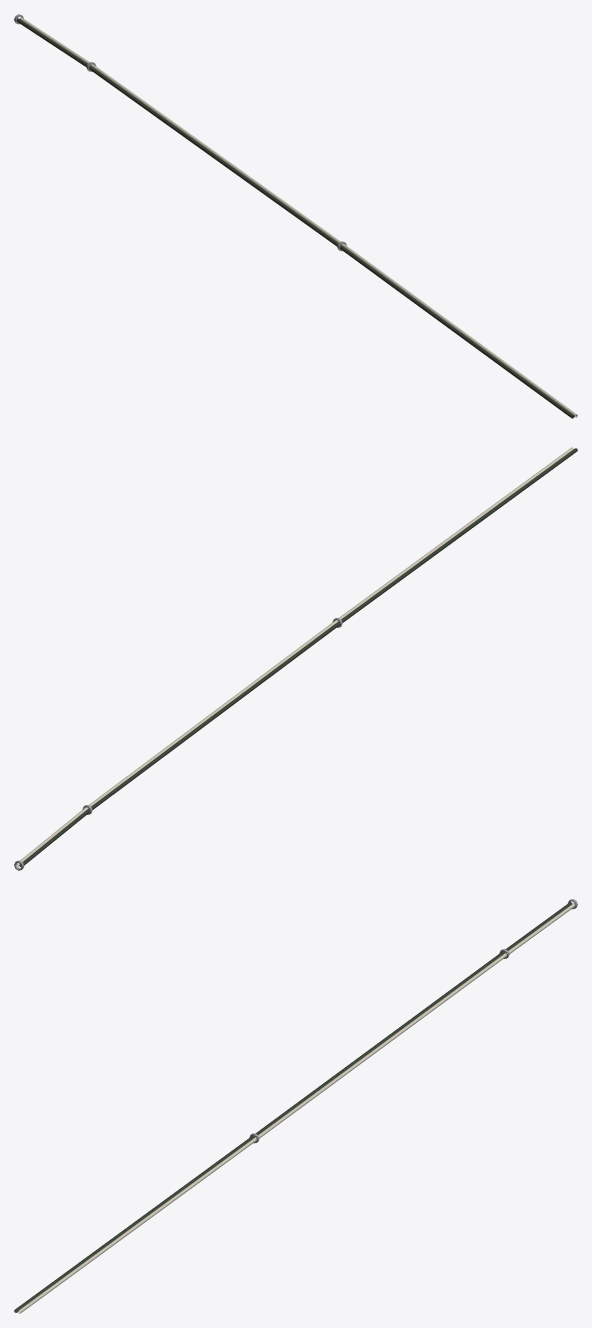
File: rs50_harness.obj
3 renders of one model, top to bottom at view 1: azimuth 30°, elevation 25°; view 2: azimuth 150°, elevation 25°; view 3: azimuth 330°, elevation 25°, orthographic.
Parts seen in each view (by area): view 1: rs50_harness; view 2: rs50_harness; view 3: rs50_harness.
Part boxes in pixels (<box>): rs50_harness: <box>14,14,577,418</box>; rs50_harness: <box>14,447,577,870</box>; rs50_harness: <box>14,899,577,1313</box>.
Bounding box in the file's own units: 0.1042 × 0.0942 × 7.11.
